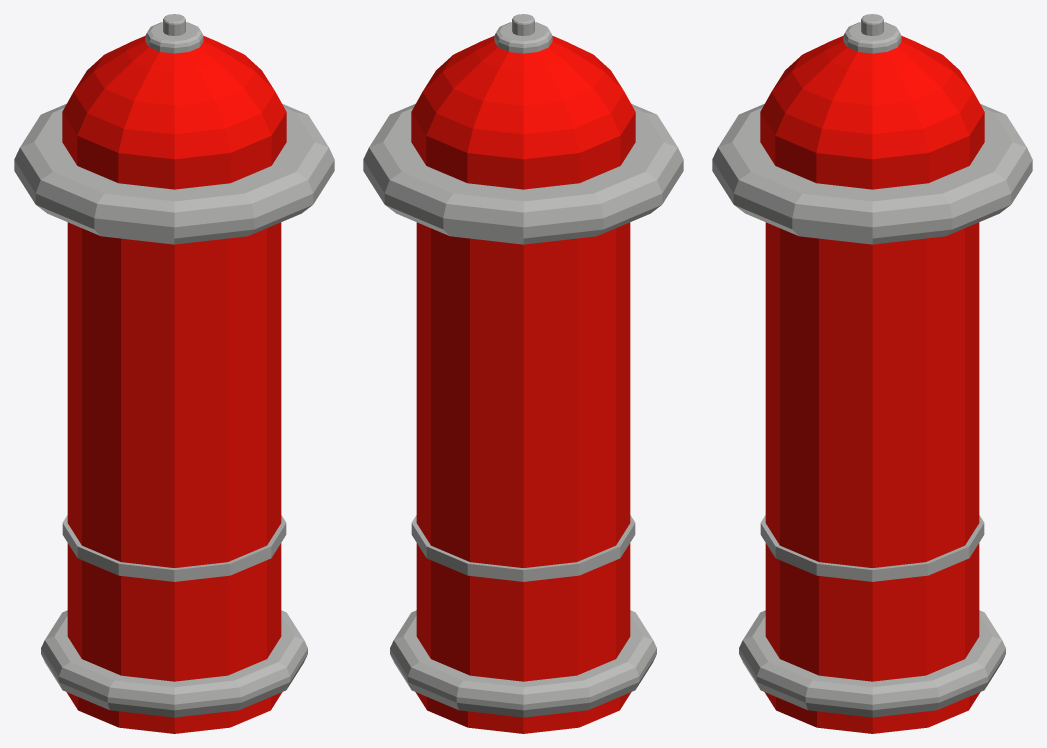
File: TomaDeAgua 1.fbx
The picture shows the model from 3 angles, left to right: view 1: azimuth 30°, elevation 25°; view 2: azimuth 150°, elevation 25°; view 3: azimuth 270°, elevation 25°; orthographic projection.
Parts seen in each view (by area): view 1: TomaDeAgua; view 2: TomaDeAgua; view 3: TomaDeAgua.
Boxes of the visible parts, bbox=[...] form: TomaDeAgua: bbox=[14, 14, 334, 733]; TomaDeAgua: bbox=[363, 14, 683, 733]; TomaDeAgua: bbox=[712, 14, 1032, 733].
Size of the model in its own units: 2.88 by 6.63 by 2.88.
